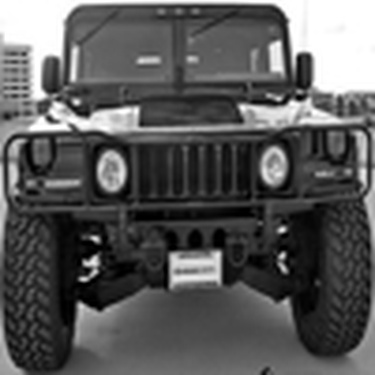car: (2, 1, 372, 374)
